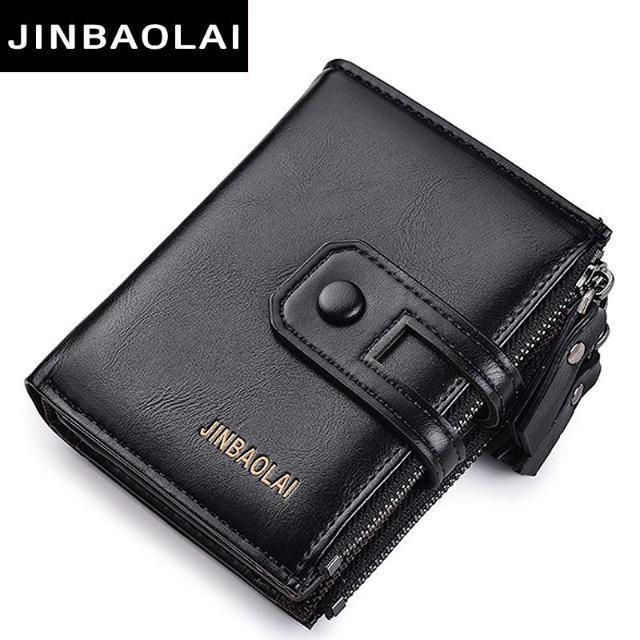wallet: (24, 55, 616, 631)
